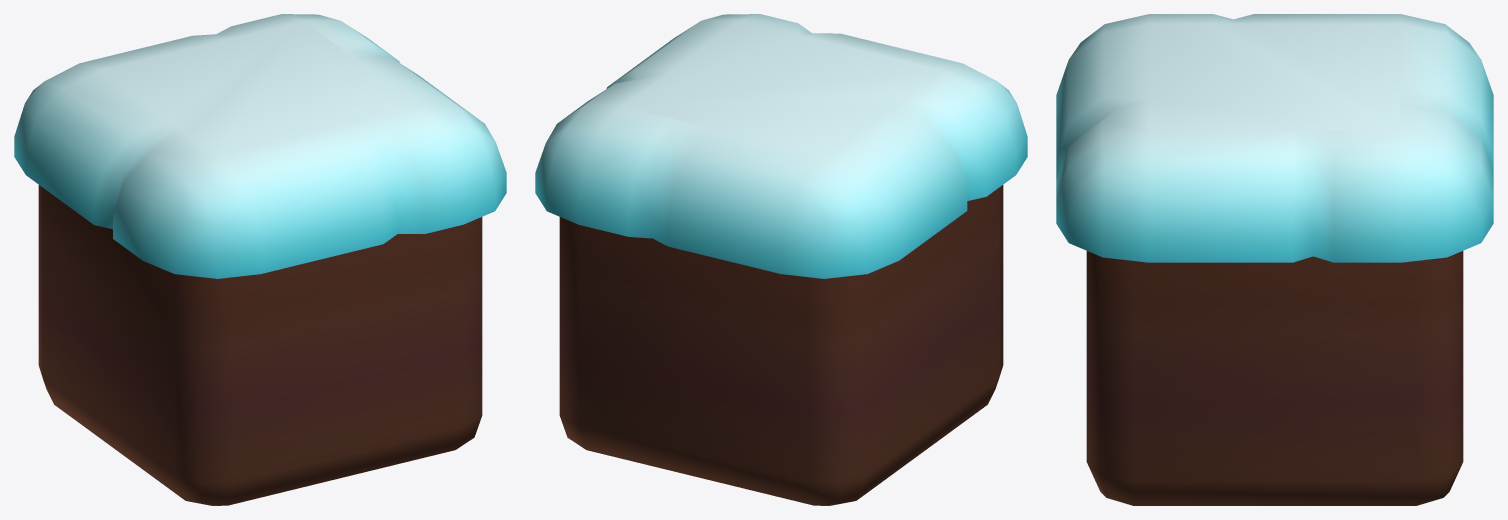
Rendered from block_spec_snow.fbx.
3 renders of one model, left to right at view 1: azimuth 30°, elevation 25°; view 2: azimuth 150°, elevation 25°; view 3: azimuth 270°, elevation 25°, orthographic. The views are drawn at different scales.
Parts seen in each view (by area): view 1: block_spec_snow; view 2: block_spec_snow; view 3: block_spec_snow.
Boxes of the visible parts, x1,y1,x2,y2 form: block_spec_snow: [14, 14, 506, 505]; block_spec_snow: [535, 14, 1027, 505]; block_spec_snow: [1056, 14, 1493, 505].
Size of the model in its own units: 232 by 215 by 232.
